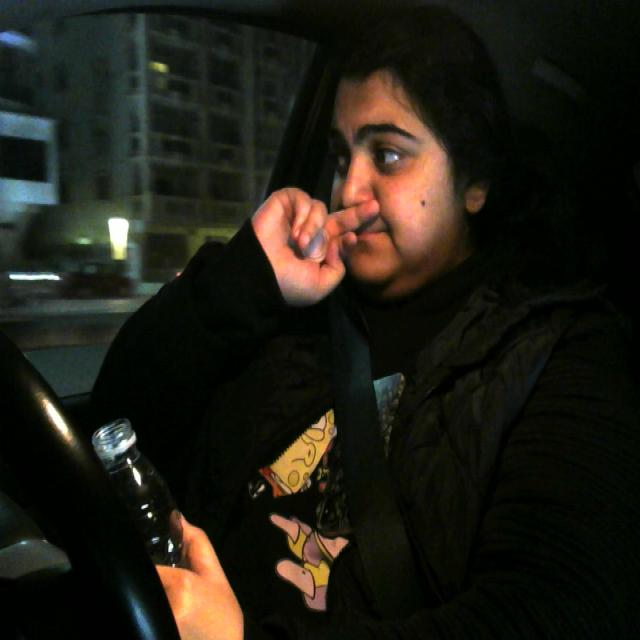drinking: (74, 391, 190, 640)
